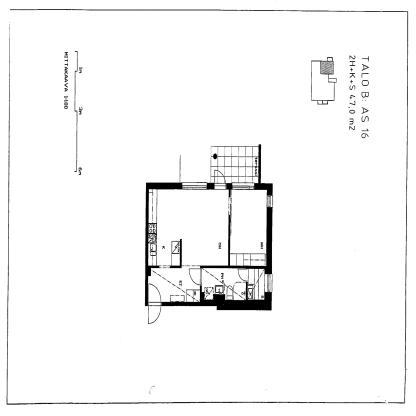door: (147, 283, 162, 327), (148, 284, 163, 307), (214, 169, 228, 193), (148, 301, 162, 325), (187, 267, 203, 287), (237, 268, 251, 284)
window: (179, 177, 210, 195), (230, 180, 256, 192), (263, 273, 273, 295), (266, 194, 276, 210)
